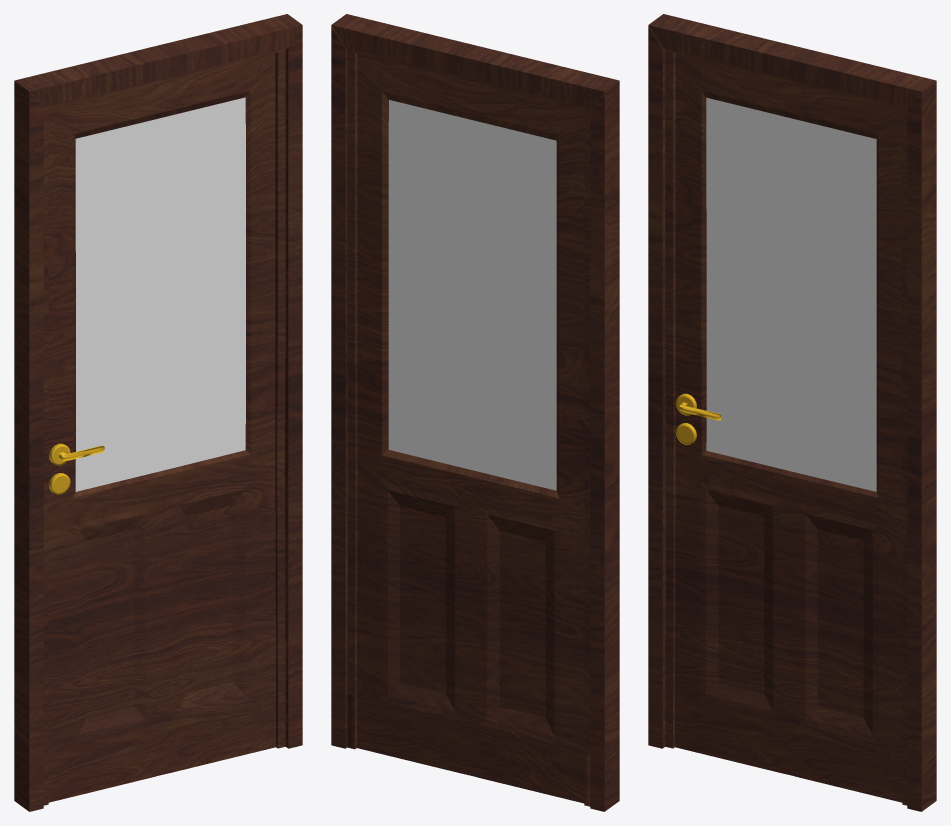
File: PUERTA18_CATANIA.glb
The picture shows the model from 3 angles, left to right: view 1: azimuth 30°, elevation 25°; view 2: azimuth 150°, elevation 25°; view 3: azimuth 330°, elevation 25°; orthographic projection.
Parts seen in each view (by area): view 1: Puerta18_CATANIA, CRISTAL_GRANDE, Puerta18_Marco, Puerta18_Cerradura; view 2: Puerta18_CATANIA, CRISTAL_GRANDE, Puerta18_Marco; view 3: Puerta18_CATANIA, CRISTAL_GRANDE, Puerta18_Marco, Puerta18_Cerradura.
Part boxes in pixels (bbox=[...]): Puerta18_CATANIA: bbox=[43, 49, 285, 805]; CRISTAL_GRANDE: bbox=[75, 97, 245, 491]; Puerta18_Marco: bbox=[14, 14, 302, 811]; Puerta18_Cerradura: bbox=[49, 443, 104, 494]; Puerta18_CATANIA: bbox=[347, 48, 590, 806]; CRISTAL_GRANDE: bbox=[388, 100, 556, 490]; Puerta18_Marco: bbox=[331, 14, 619, 811]; Puerta18_CATANIA: bbox=[665, 49, 907, 805]; CRISTAL_GRANDE: bbox=[706, 97, 876, 491]; Puerta18_Marco: bbox=[648, 14, 936, 811]; Puerta18_Cerradura: bbox=[675, 393, 721, 444].
Bounding box in the file's own units: 769 × 1936 × 85.
Materials: 6 (4 with a texture image).
